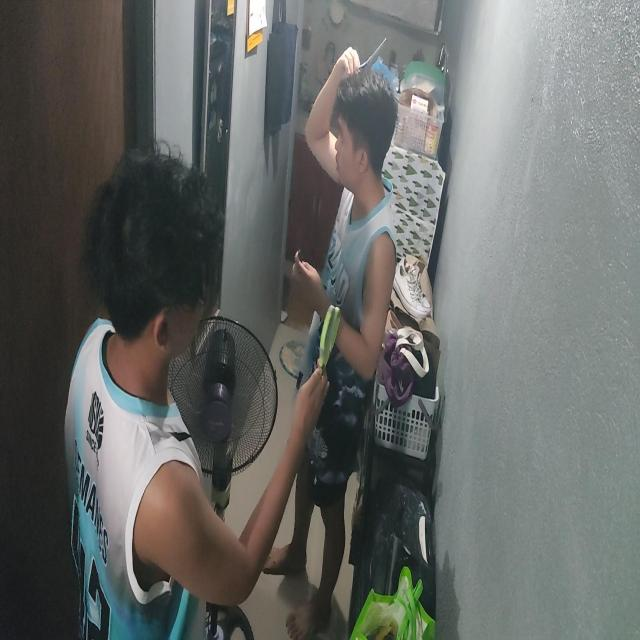scissor: (314, 303, 344, 390), (358, 37, 387, 73)
